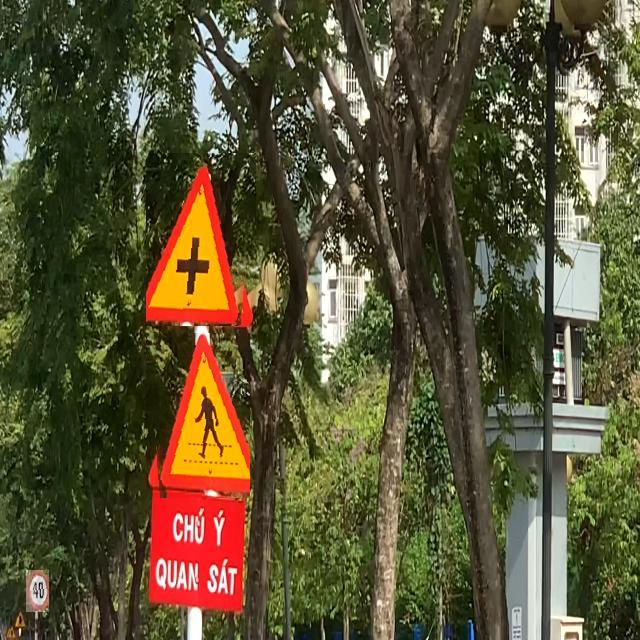P-127: (26, 570, 49, 612)
W-205a: (146, 153, 256, 339)
W-224: (146, 326, 250, 498)
